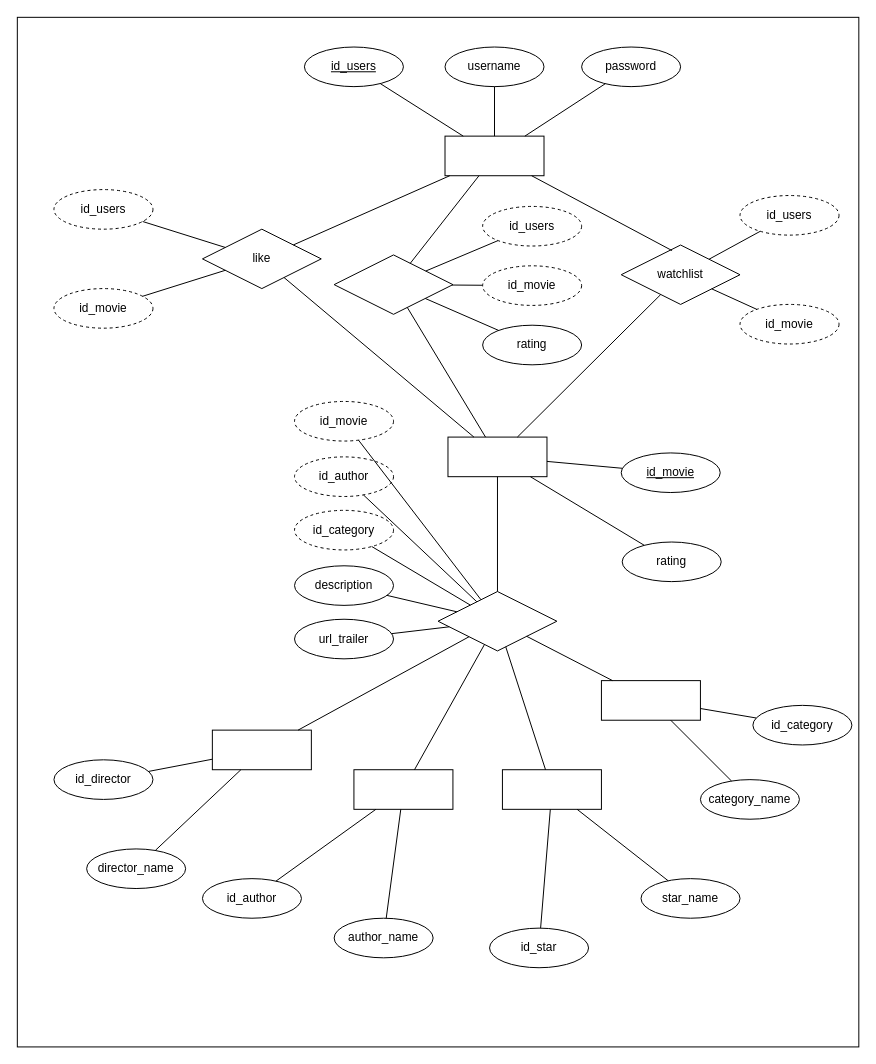
Image size: 876x1064. Some labels were removed from this diagram. Each missing label, with the centre of its shape:
"author" belongs at point 403,789.
"category" belongs at point 650,700.
"director" belongs at point 261,749.
"movie" belongs at point 497,456.
"movie_detail" belongs at point 497,621.
"rate" belongs at point 393,284.
"star" belongs at point 551,789.
"user" belongs at point 494,155.
